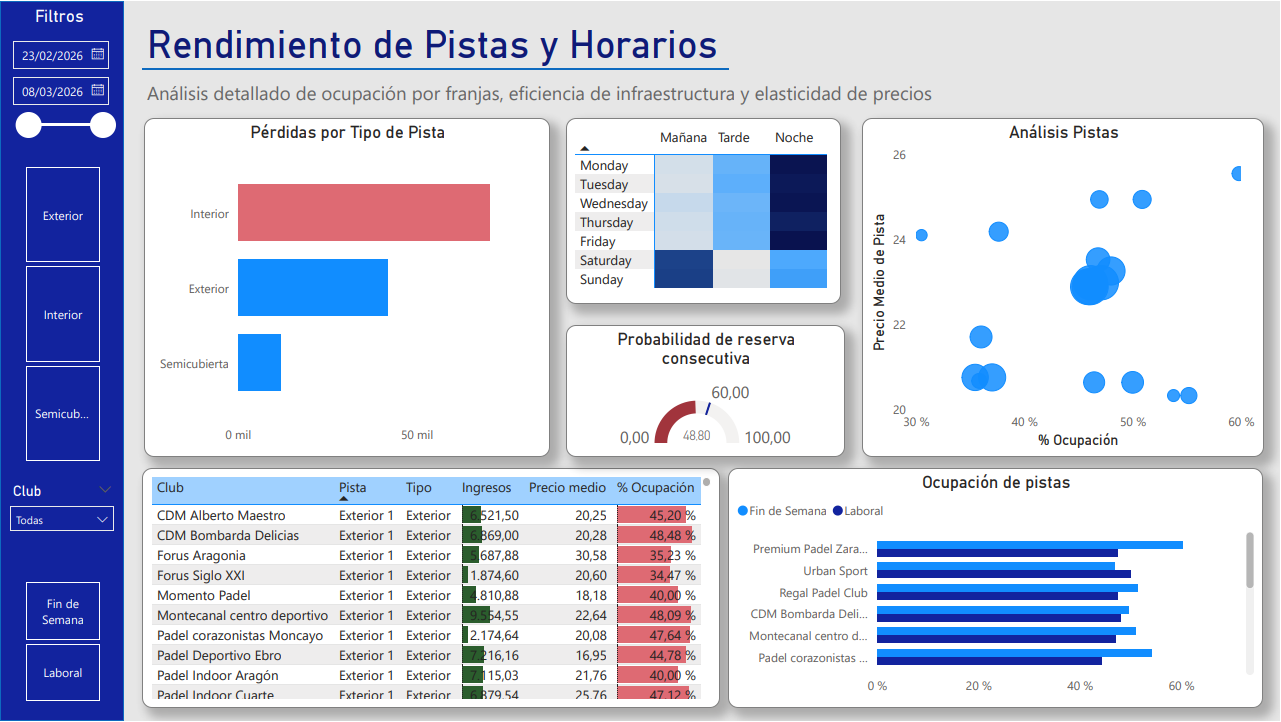

The page's visual inventory and layout, read from the dashboard file:
{"tool":"powerbi","page":{"name":"Análisis negocio","canvas":[1280,720],"ordinal":1},"visuals":[{"type":"pivotTable","fields":{"Rows":["public reservas_padel.Dia_Semana"],"Values":["public reservas_padel.% Ocupacion Real"],"Columns":["public reservas_padel.Franja Comercial"]},"box":[565.7,117,275.8,186.2],"z":0},{"type":"barChart","title":"Pérdidas por Tipo de Pista","fields":{"Y":["Sum(public reservas_padel.Lost Revenue)"],"Category":["public reservas_padel.Tipo_Pista"]},"box":[143.9,117.4,406,338.3],"z":1000},{"type":"tableEx","fields":{"Values":["public reservas_padel.Club","public vw_ranking_pistas_rentables.Nombre_Pista","public vw_ranking_pistas_rentables.Tipo_Pista","Sum(public reservas_padel.Ingreso_Generado)","Avg(public reservas_padel.Precio_Euro)","public reservas_padel.% Ocupacion Real"]},"box":[141.9,467.3,578.1,239.4],"z":2000},{"type":"gauge","fields":{"Y":["Avg(public vw_ocupacion_consecutiva.pct_back_to_back)"]},"box":[565.7,323.8,279.7,131.9],"z":3000},{"type":"scatterChart","title":"Análisis Pistas","fields":{"Category":["public reservas_padel.Nombre_Pista"],"X":["public reservas_padel.% Ocupacion Real"],"Y":["Avg(public reservas_padel.Precio_Euro)"],"Size":["Sum(public reservas_padel.Ingreso_Generado)"]},"box":[862.2,117.4,401.5,338.3],"z":4000},{"type":"shape","title":"Filtros","box":[0,0,123.9,719.9],"z":5000},{"type":"slicer","fields":{"Values":["Calendario.Date"]},"box":[0,29.7,123.9,128],"z":6000},{"type":"slicer","fields":{"Values":["public vw_kpi_diario_club.Club"]},"box":[0,476.6,124,73.1],"z":7000},{"type":"slicer","fields":{"Values":["public reservas_padel.Tipo_Pista"]},"box":[0,158.5,124.5,308.3],"z":8000},{"type":"slicer","fields":{"Values":["public reservas_padel.Tipo de Dia"]},"box":[0,573.8,124,133.3],"z":9000},{"type":"textbox","box":[29.6,0,63.9,32.4],"z":10000},{"type":"shape","box":[142.1,29.3,586.4,77.8],"z":11000},{"type":"textbox","box":[142.1,15.8,660.9,77.8],"z":12000},{"type":"textbox","box":[142.1,74.4,842.4,42.9],"z":13000},{"type":"clusteredBarChart","title":"Ocupación de pistas","fields":{"Category":["public reservas_padel.Club"],"Y":["public reservas_padel.% Ocupacion Real"],"Series":["public reservas_padel.Tipo de Dia"]},"box":[728,467.3,534.7,239.4],"z":14000}]}

Visuals, with their boxes on the page's 1280x720 design canvas (x1, y1, x2, y2). These are canvas units, not pixel positions in the 1281x722 screenshot, which may show the page scaled, cropped or inside an application window:
pivotTable - public reservas_padel.Dia_Semana x public reservas_padel.% Ocupacion Real: left=566, top=117, right=842, bottom=303
"Pérdidas por Tipo de Pista" barChart: left=144, top=117, right=550, bottom=456
tableEx - public reservas_padel.Club x public vw_ranking_pistas_rentables.Nombre_Pista: left=142, top=467, right=720, bottom=707
gauge - Avg(public vw_ocupacion_consecutiva.pct_back_to_back): left=566, top=324, right=845, bottom=456
"Análisis Pistas" scatterChart: left=862, top=117, right=1264, bottom=456
"Filtros" shape: left=0, top=0, right=124, bottom=720
slicer - Calendario.Date: left=0, top=30, right=124, bottom=158
slicer - public vw_kpi_diario_club.Club: left=0, top=477, right=124, bottom=550
slicer - public reservas_padel.Tipo_Pista: left=0, top=158, right=124, bottom=467
slicer - public reservas_padel.Tipo de Dia: left=0, top=574, right=124, bottom=707
textbox: left=30, top=0, right=94, bottom=32
shape: left=142, top=29, right=728, bottom=107
textbox: left=142, top=16, right=803, bottom=94
textbox: left=142, top=74, right=984, bottom=117
"Ocupación de pistas" clusteredBarChart: left=728, top=467, right=1263, bottom=707
